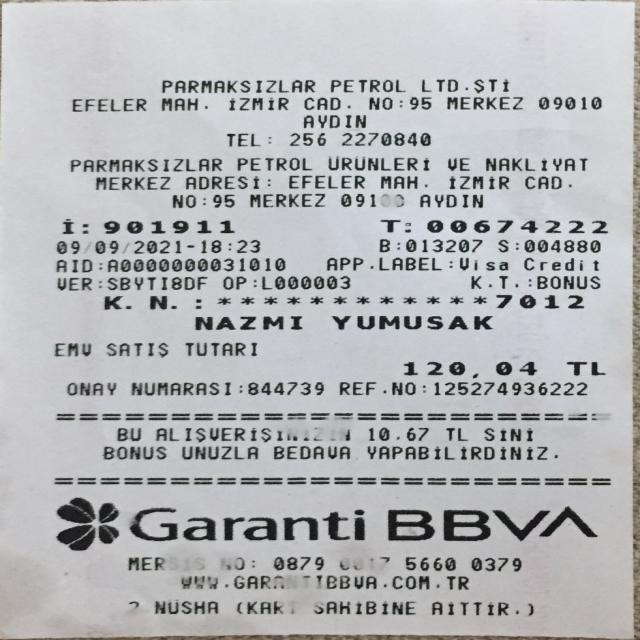text: (130, 503, 363, 541), (388, 503, 596, 541), (338, 380, 586, 396), (331, 309, 492, 333), (151, 424, 352, 442), (106, 254, 285, 273), (367, 444, 547, 460), (69, 154, 219, 172), (427, 218, 607, 233), (194, 309, 301, 333), (302, 574, 466, 589), (326, 254, 441, 273), (161, 78, 314, 92), (102, 218, 233, 232), (313, 598, 414, 616), (484, 153, 584, 171), (431, 599, 536, 616), (325, 154, 430, 170), (131, 380, 230, 396), (181, 574, 283, 589), (341, 130, 428, 147), (110, 275, 208, 290), (523, 254, 597, 273), (136, 238, 223, 253), (261, 274, 348, 289), (494, 292, 580, 307), (235, 154, 310, 171), (96, 173, 170, 190), (184, 173, 258, 190), (289, 173, 363, 190), (420, 78, 508, 92), (405, 237, 482, 253), (273, 444, 350, 460), (523, 237, 599, 253), (246, 380, 322, 396), (249, 192, 324, 208), (182, 444, 257, 460), (528, 273, 599, 289), (402, 360, 464, 378), (70, 96, 143, 111), (338, 192, 406, 208), (154, 597, 217, 614), (184, 340, 255, 355), (446, 95, 522, 109), (329, 78, 404, 92), (102, 444, 165, 460), (420, 192, 482, 208), (450, 173, 508, 190), (366, 426, 431, 441), (238, 600, 300, 615), (106, 340, 166, 355), (538, 95, 600, 109), (303, 113, 365, 127), (470, 554, 520, 571), (459, 256, 508, 273), (273, 554, 322, 571), (405, 554, 454, 571), (228, 96, 286, 110), (65, 380, 115, 396), (338, 555, 389, 570), (494, 360, 535, 378), (564, 359, 604, 377), (483, 426, 531, 441), (51, 340, 94, 356), (288, 130, 324, 148), (524, 173, 561, 190), (127, 554, 163, 571), (466, 275, 509, 289), (52, 256, 92, 271), (381, 173, 416, 190), (225, 131, 258, 148), (160, 96, 197, 111), (302, 96, 338, 110), (56, 276, 91, 290), (94, 238, 120, 254), (103, 294, 130, 309), (148, 294, 175, 309), (55, 217, 77, 235), (217, 556, 244, 570), (55, 239, 80, 254), (446, 154, 468, 171), (172, 192, 195, 208), (212, 192, 234, 208), (221, 274, 244, 289), (116, 426, 139, 441), (368, 96, 391, 110), (408, 95, 429, 110), (237, 238, 258, 253), (445, 426, 466, 441), (187, 554, 204, 571), (380, 218, 400, 232), (96, 254, 106, 273), (497, 237, 507, 253), (378, 237, 388, 252), (193, 294, 200, 309), (122, 238, 128, 254), (472, 359, 477, 378), (405, 218, 410, 232), (553, 444, 557, 460), (397, 95, 401, 110), (448, 254, 451, 273), (267, 131, 269, 148), (267, 173, 269, 190), (568, 173, 570, 190), (250, 554, 252, 571), (202, 192, 204, 208), (514, 237, 516, 253), (396, 237, 398, 252), (203, 96, 205, 110), (425, 173, 426, 190)
